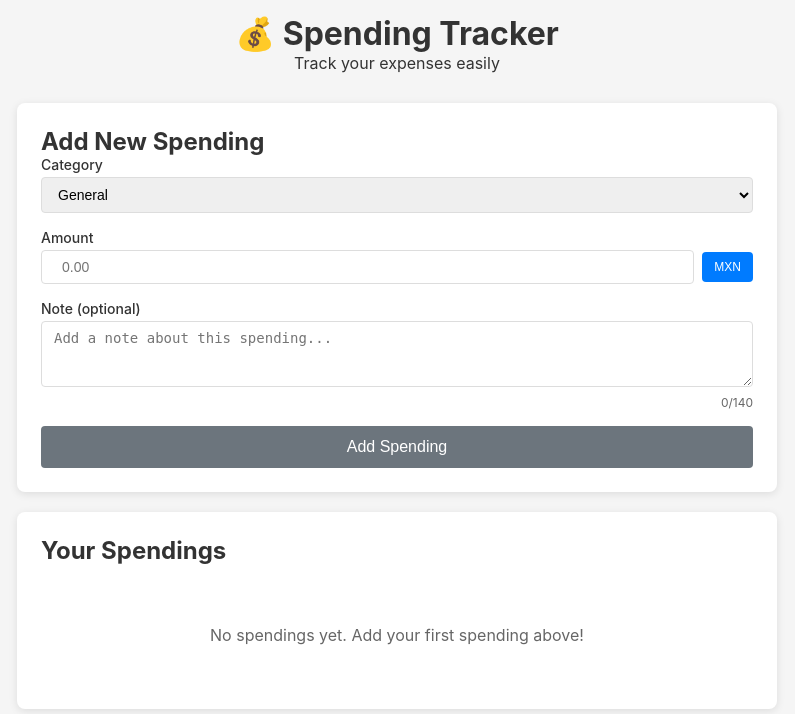
Spending Tracker App › Category Filter › shows correct total for all categories
This screenshot has width=795, height=714.
Type "10.00" into the field with test id "amount-input" showing "Amount" at (368, 267), box [41,250,694,284]
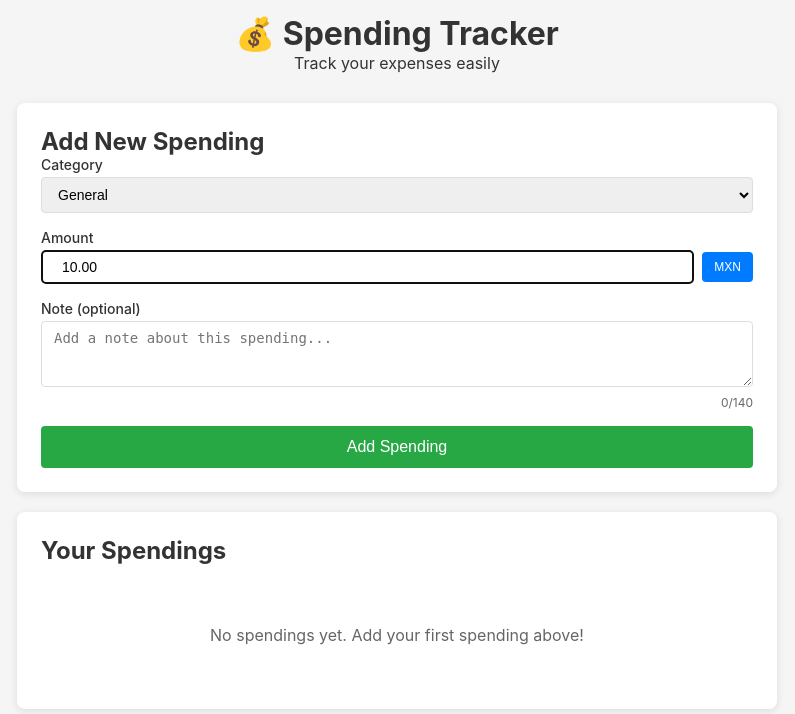
Click the button with test id "add-spending-btn" at (397, 447), box [41,426,753,468]
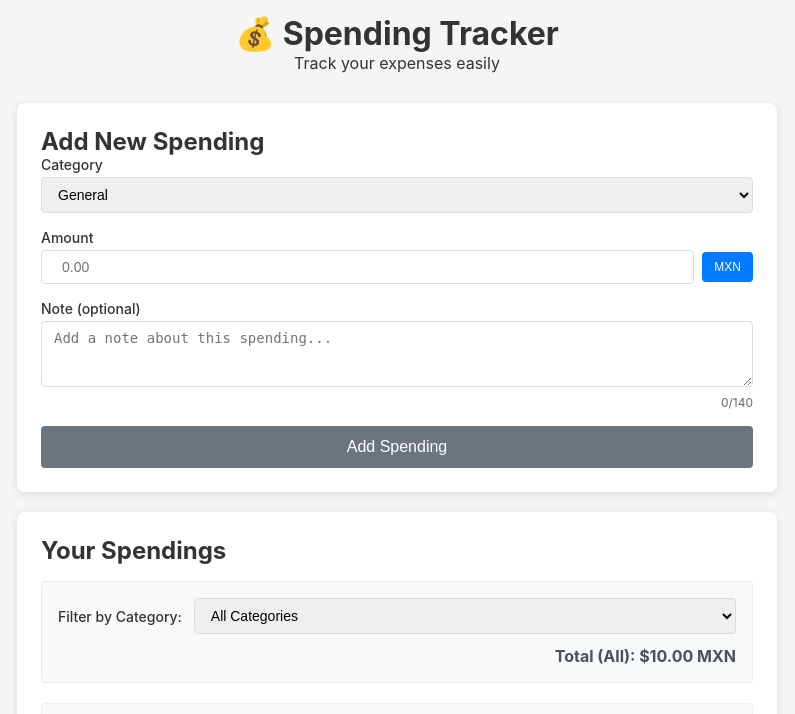
Select "Personal" in the dropdown with test id "category-select" at (397, 195), box [41,177,753,213]
Type "20.00" into the field with test id "amount-input" showing "Amount" at (368, 267), box [41,250,694,284]
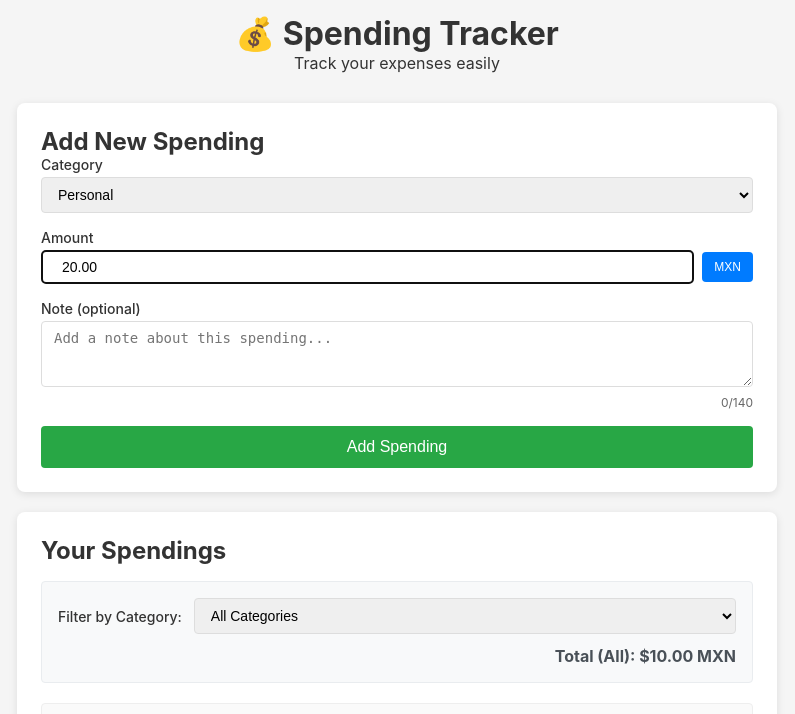
Click the button with test id "add-spending-btn" at (397, 447), box [41,426,753,468]
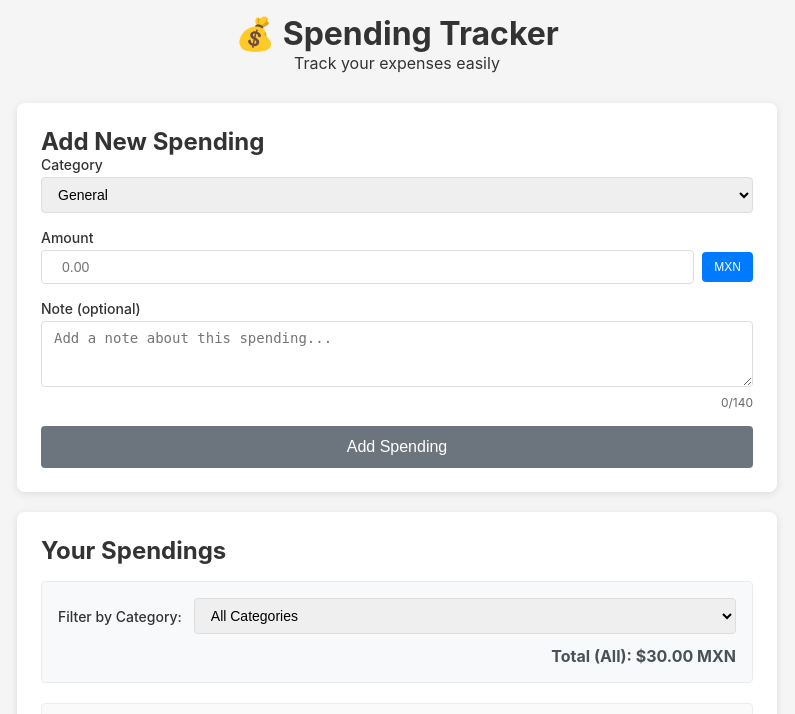
Select "Auto" in the dropdown with test id "category-select" at (397, 195), box [41,177,753,213]
Type "30.00" into the field with test id "amount-input" showing "Amount" at (368, 267), box [41,250,694,284]
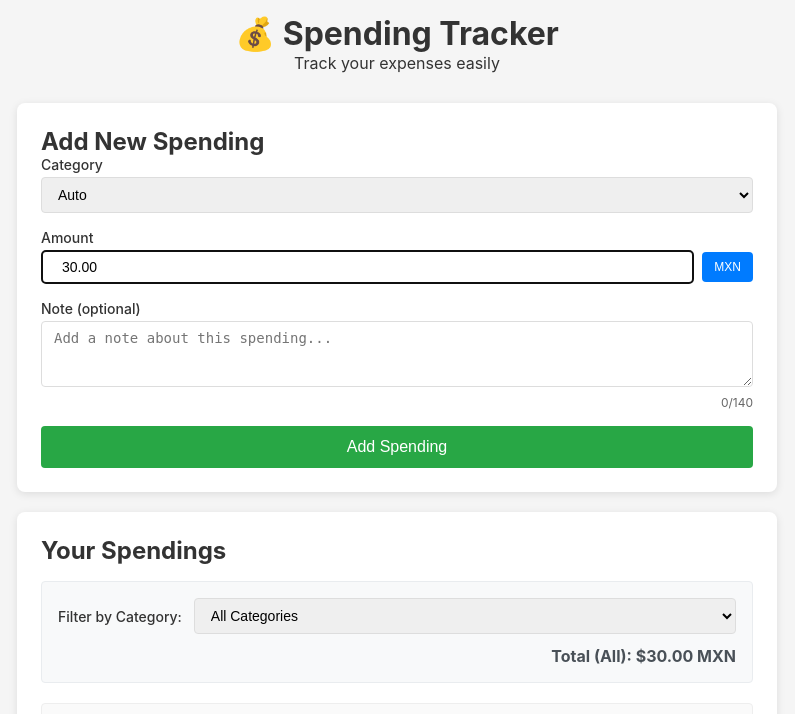
Click the button with test id "add-spending-btn" at (397, 447), box [41,426,753,468]
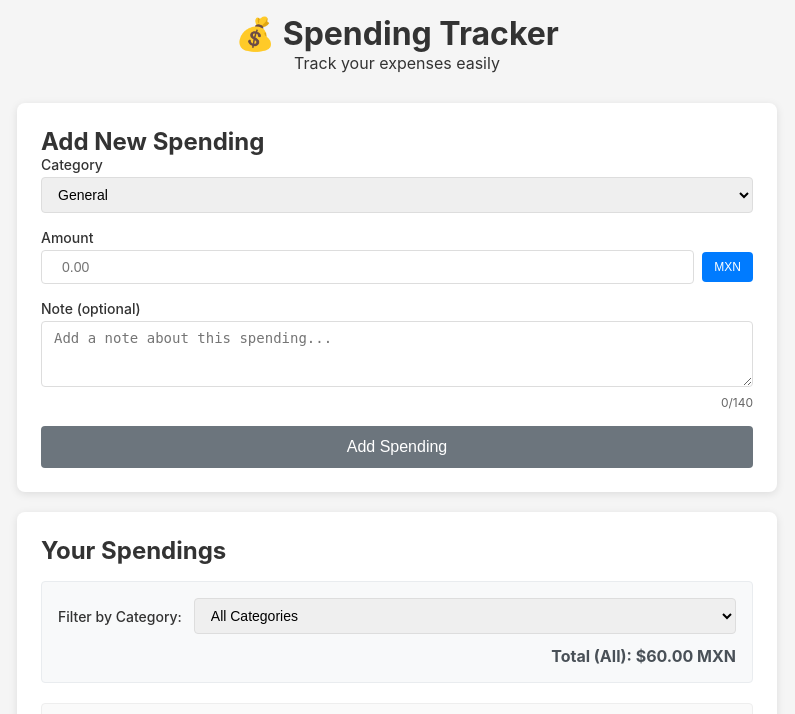
Expected: the text "Total (All): $60.00 MXN" is shown, [551,646,736,666]
